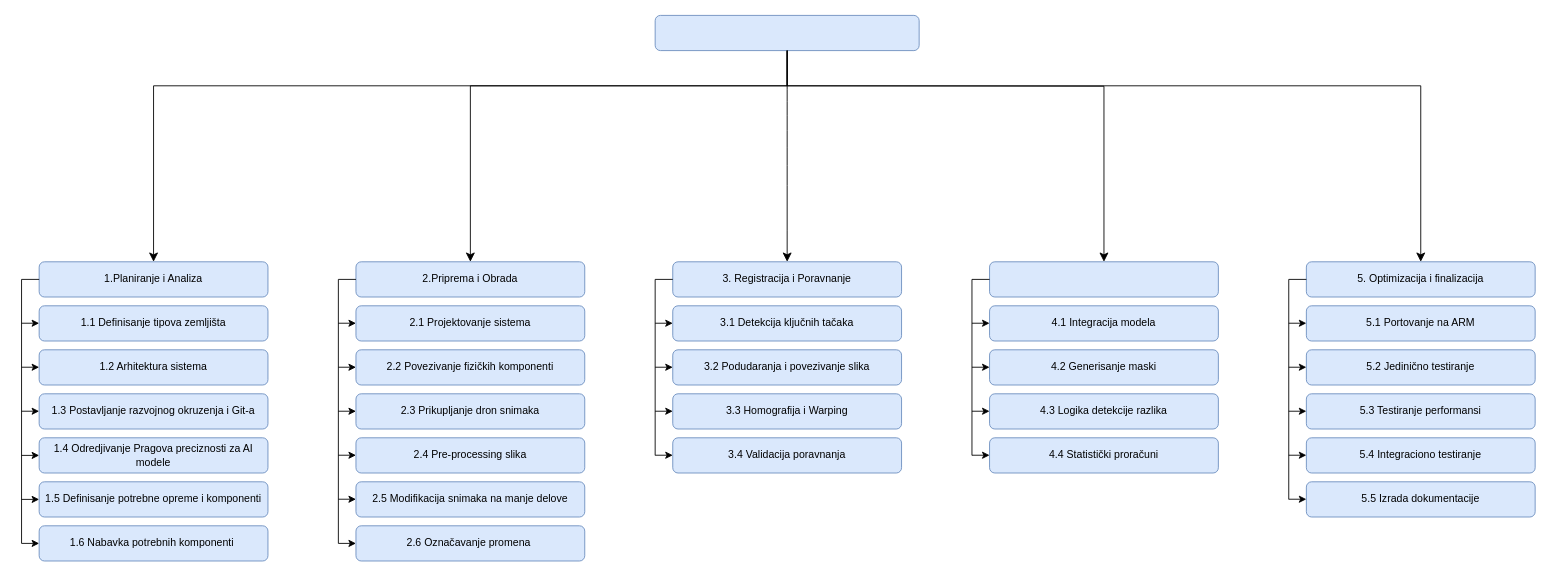
This 1551x576 diagram has some shape labels left out. Each missing label, with the centre of its shape:
4. AI i Analitika: pixel 1103 279
Projekat Praćenja promene tipa zemljišta: pixel 786 33
